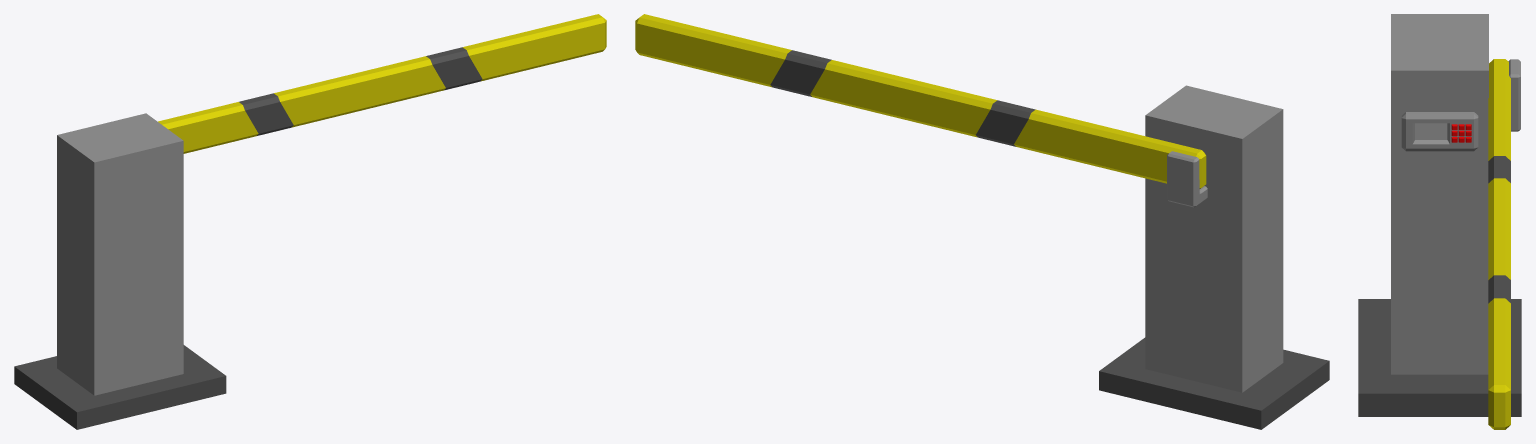
File: SecurityBarrier.fbx
3 renders of one model, left to right at view 1: azimuth 30°, elevation 25°; view 2: azimuth 150°, elevation 25°; view 3: azimuth 270°, elevation 25°, orthographic. The views are drawn at different scales.
Visible parts, largest first — view 1: Security, Block; view 2: Security, Block; view 3: Security, Block, Keycode.
Boxes of the visible parts, x1,y1,x2,y2 form: Security: (14,113,226,429); Block: (158,14,606,153); Security: (1099,85,1329,429); Block: (635,14,1206,188); Security: (1358,14,1521,416); Block: (1488,59,1510,429); Keycode: (1451,124,1471,142).
Size of the model in its own units: 335 by 138 by 62.49.
